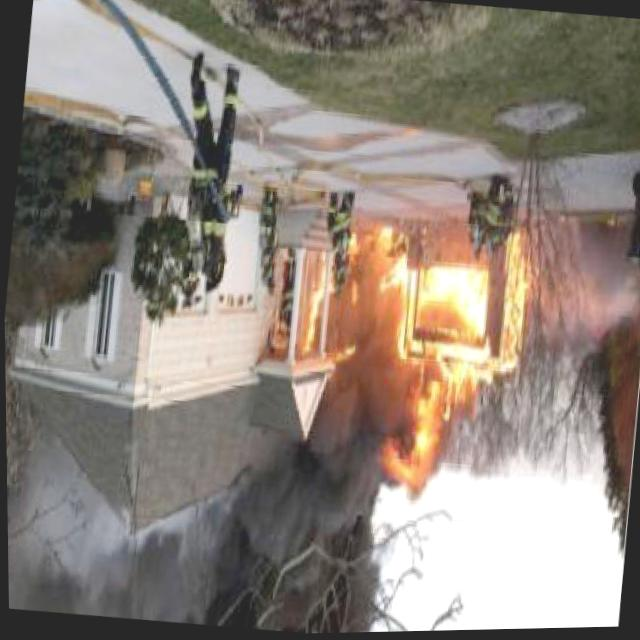Fire: (385, 217, 530, 421), (367, 408, 446, 492), (297, 254, 334, 371), (363, 221, 405, 297), (339, 228, 367, 314)
